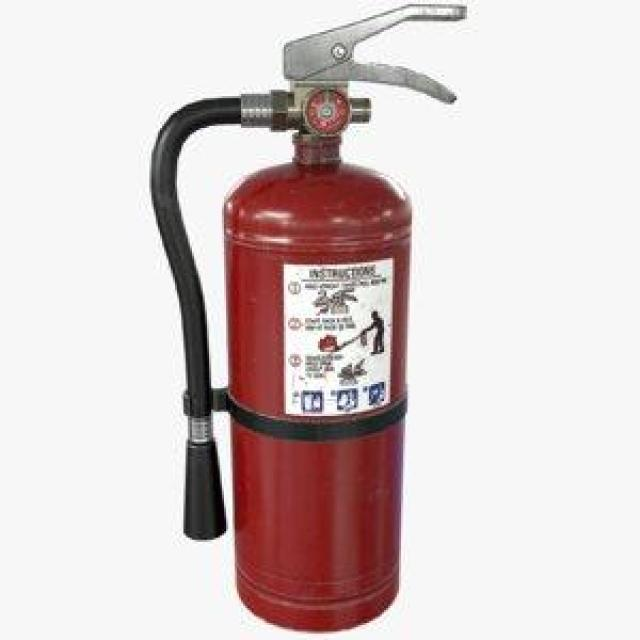fire_extinguisher: (144, 0, 474, 636)
